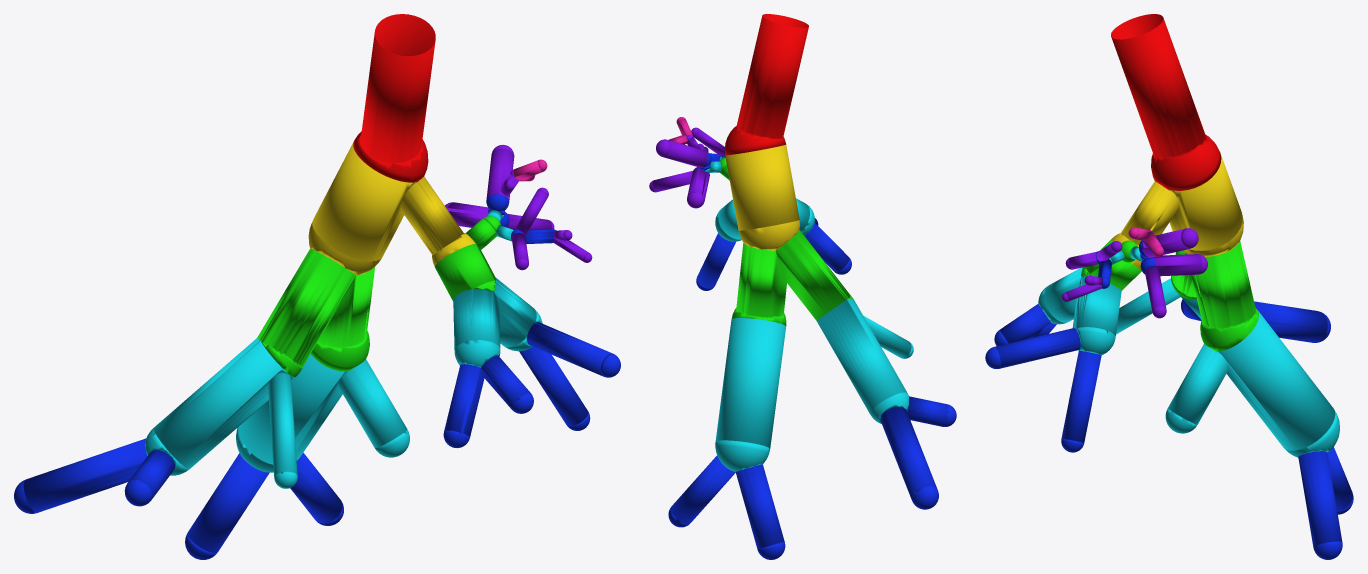
The model's file is AirwaySegment.glb.
The picture shows the model from 3 angles, left to right: view 1: azimuth 30°, elevation 25°; view 2: azimuth 150°, elevation 25°; view 3: azimuth 270°, elevation 25°; orthographic projection. The views are drawn at different scales.
Parts seen in each view (by area): view 1: GEN3, GEN4, GEN2, GEN1, GEN0, GEN5; view 2: GEN3, GEN4, GEN0, GEN2, GEN1, GEN5; view 3: GEN3, GEN4, GEN0, GEN2, GEN1, GEN5, GEN6.
Part boxes in pixels (<box>): GEN3: <box>145,210,542,488</box>; GEN4: <box>14,194,620,559</box>; GEN2: <box>257,216,500,377</box>; GEN1: <box>308,142,476,275</box>; GEN0: <box>353,14,435,182</box>; GEN5: <box>445,145,592,270</box>; GEN3: <box>704,156,913,471</box>; GEN4: <box>668,151,956,559</box>; GEN0: <box>724,14,808,155</box>; GEN2: <box>720,158,853,326</box>; GEN1: <box>725,144,799,250</box>; GEN5: <box>649,127,724,208</box>; GEN3: <box>1038,246,1339,457</box>; GEN4: <box>985,240,1353,559</box>; GEN0: <box>1111,14,1221,190</box>; GEN2: <box>1081,239,1258,351</box>; GEN1: <box>1112,154,1243,269</box>; GEN5: <box>1061,228,1207,318</box>; GEN6: <box>1128,227,1163,256</box>.
Size of the model in its own units: 373 by 467 by 291.
